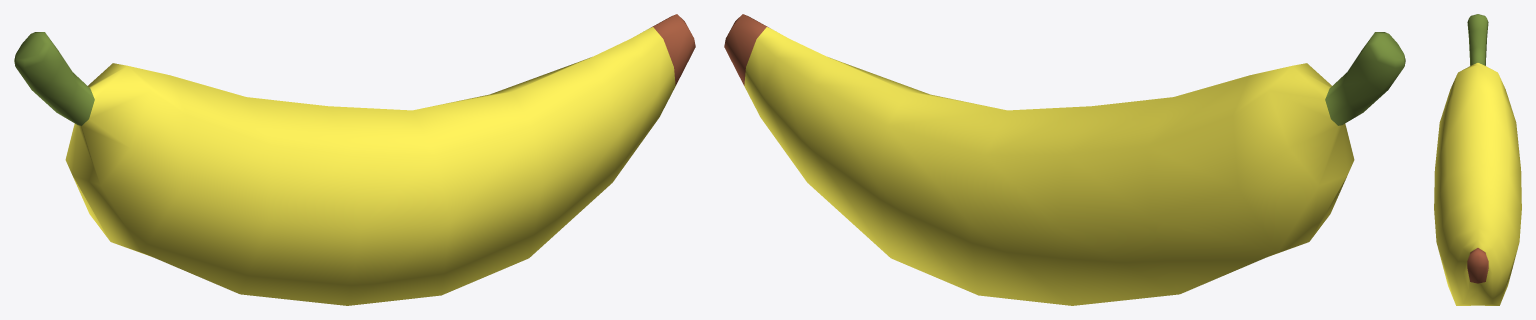
File: Banana.fbx
3 views of the same model, side by side, from view 1: azimuth 30°, elevation 25°; view 2: azimuth 150°, elevation 25°; view 3: azimuth 270°, elevation 25° (orthographic). The views are drawn at different scales.
Visible parts, largest first — view 1: Cube.001; view 2: Cube.001; view 3: Cube.001.
Part boxes in pixels (x1,y1,x2,y2): Cube.001: (14,14,695,305); Cube.001: (724,14,1405,305); Cube.001: (1434,14,1521,305).
Size of the model in its own units: 384 by 185 by 82.13.
